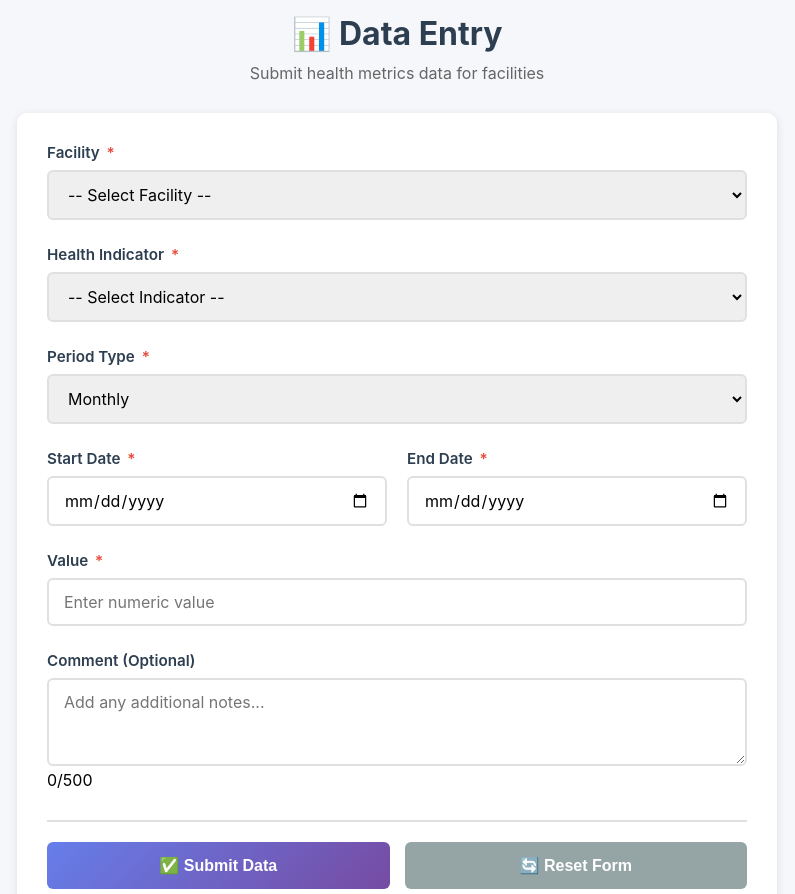
Test case: DataEntryForm Component › resets form when reset button is clicked
Type something in value field
Type "150" into the number field labelled "Value *" at (397, 602), box x1=47 y1=578 x2=747 y2=626
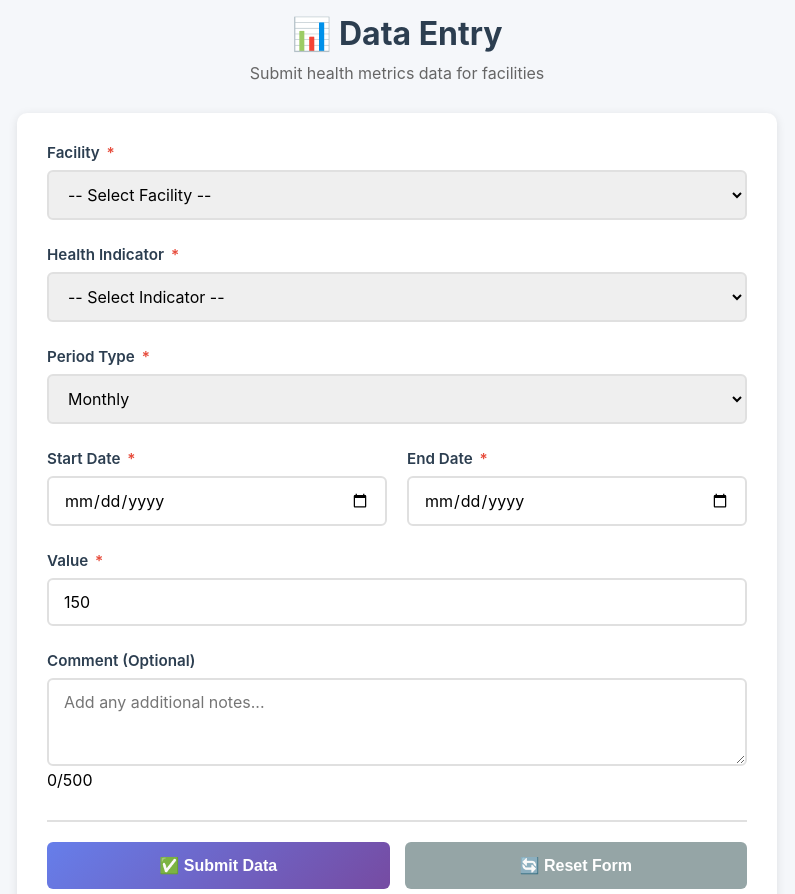
Click reset
Click the button "🔄 Reset Form" at (576, 866), box x1=404 y1=842 x2=747 y2=889
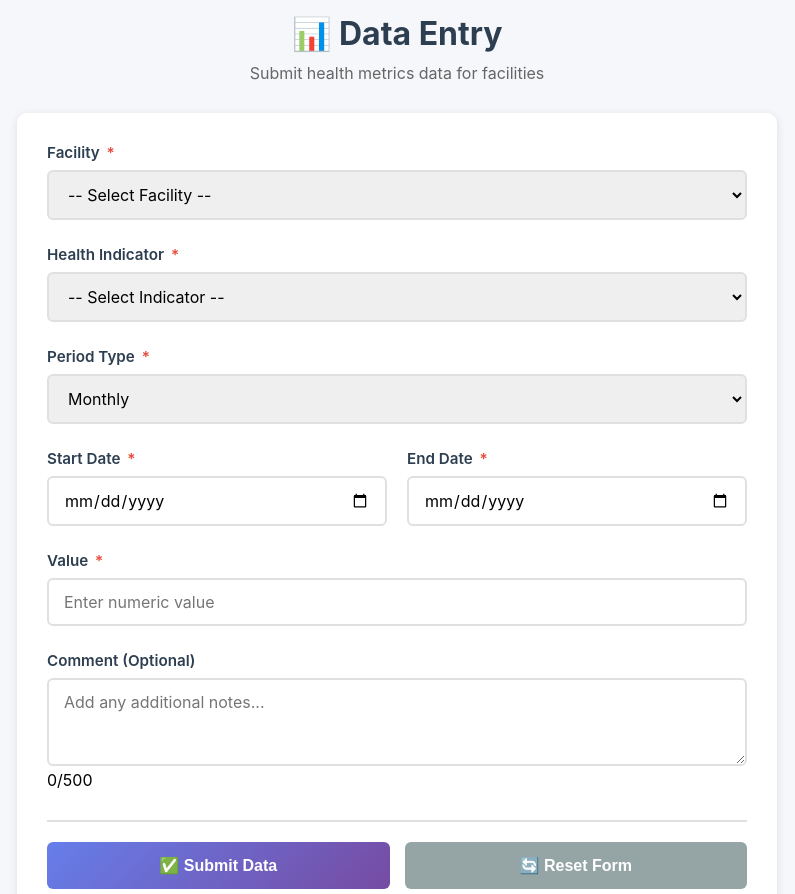
Expected: the number field labelled "Value *" is empty, x1=47 y1=578 x2=747 y2=626
